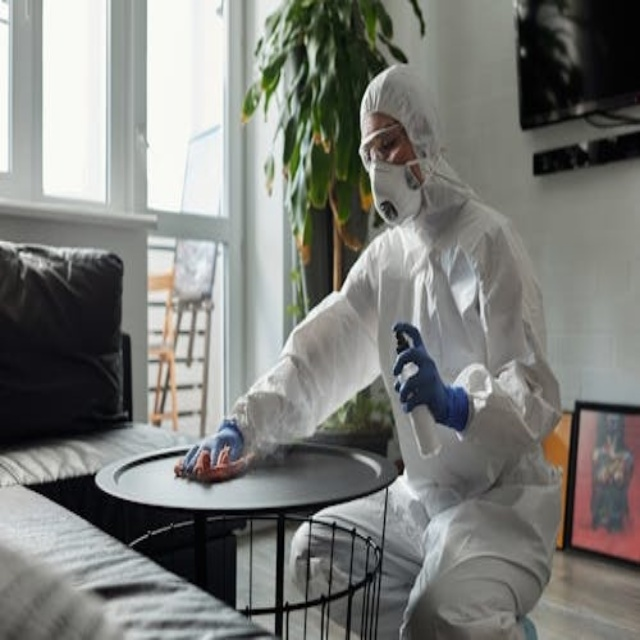Gafas: (364, 126, 415, 165)
Guantes: (391, 321, 468, 429), (178, 418, 245, 477)
Mascara: (370, 151, 426, 227)
